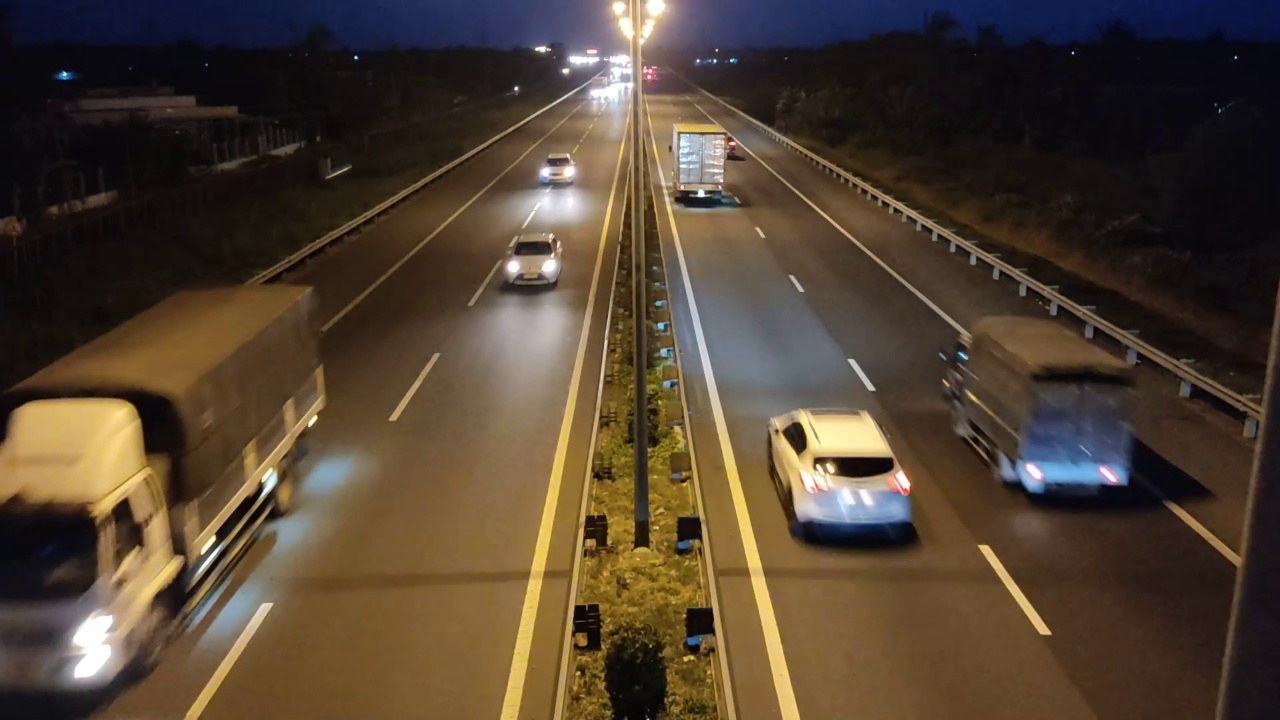car: (765, 406, 915, 546), (500, 231, 564, 289), (537, 153, 577, 187)
truck: (3, 282, 331, 682), (939, 313, 1139, 503), (671, 121, 727, 205)
